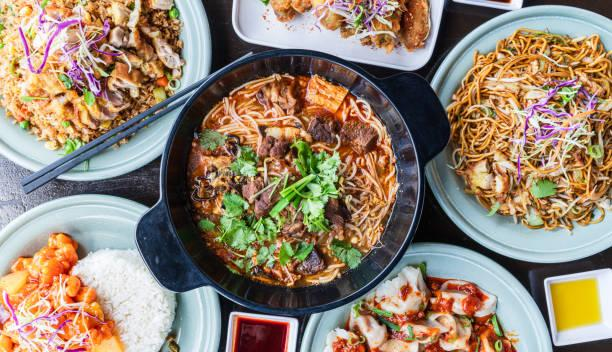Braised Crucian Carp: (147, 51, 444, 311), (425, 5, 612, 262), (6, 1, 212, 180), (2, 191, 220, 352), (299, 240, 552, 350)
